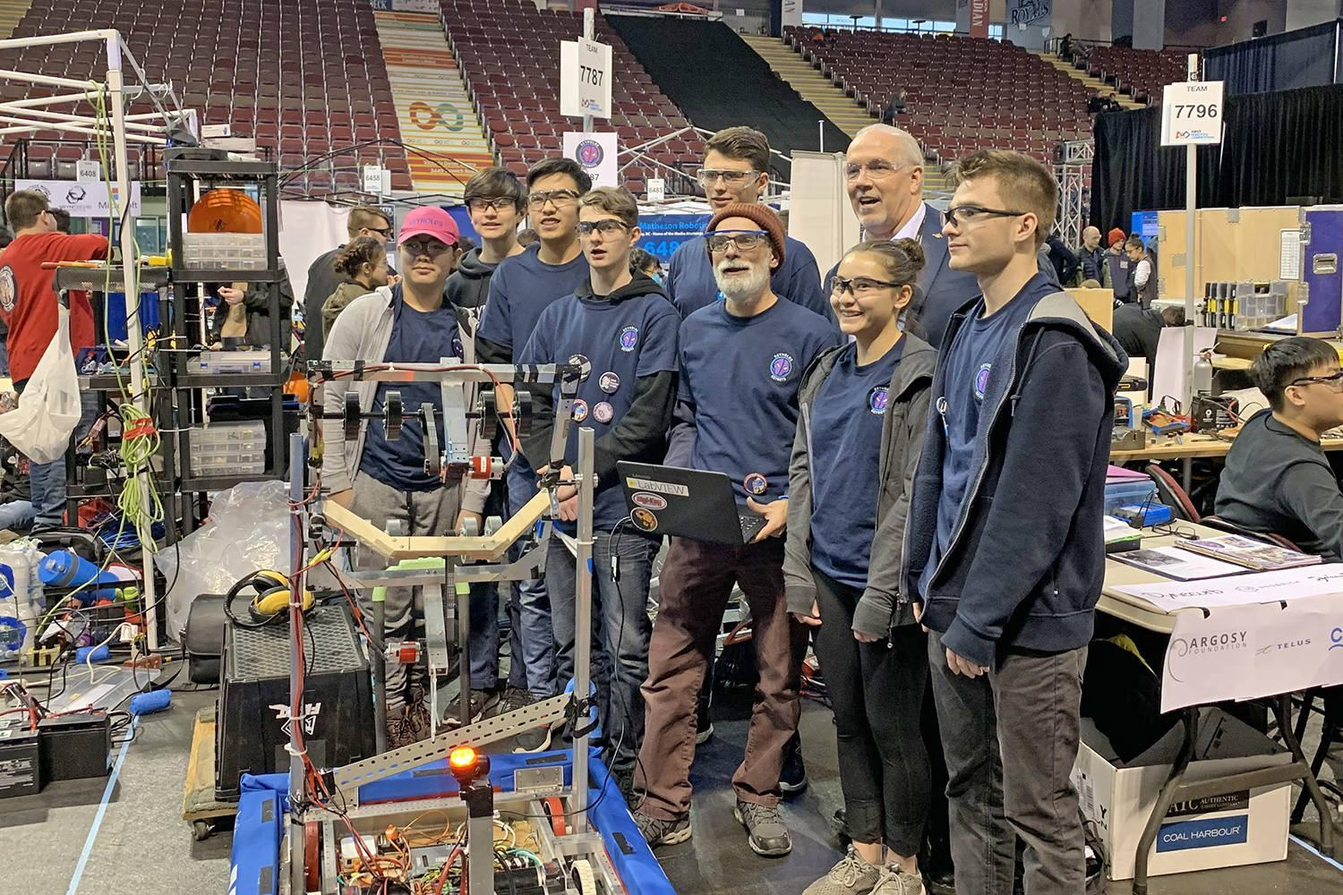robot: (217, 350, 700, 895)
